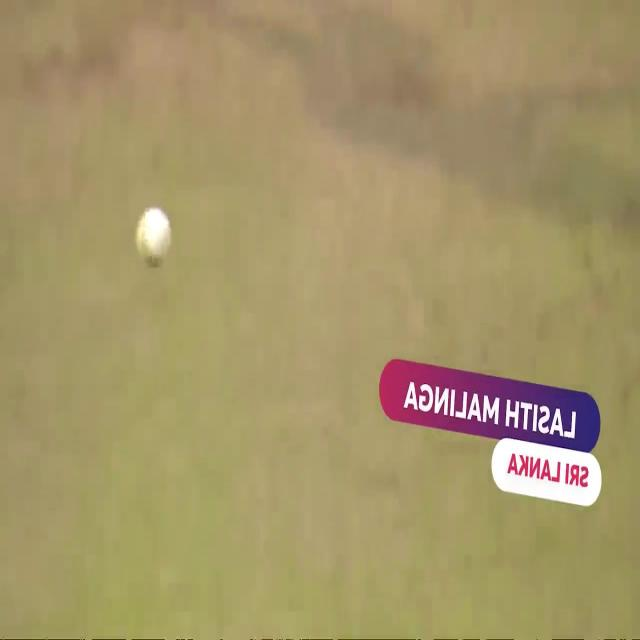ball: (134, 202, 174, 269)
